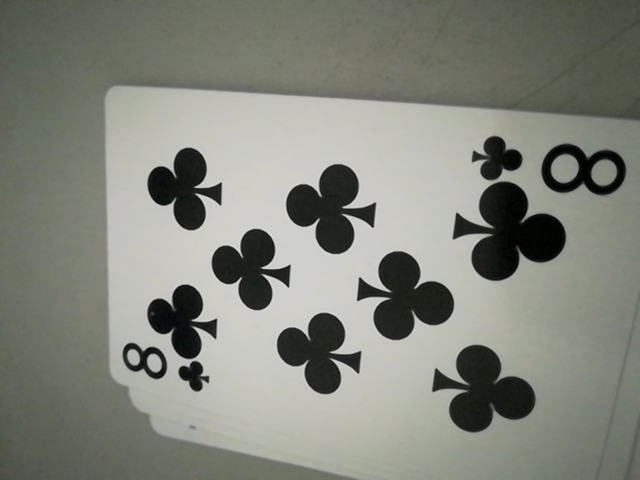mh 8: (471, 129, 625, 196), (119, 340, 208, 399)
